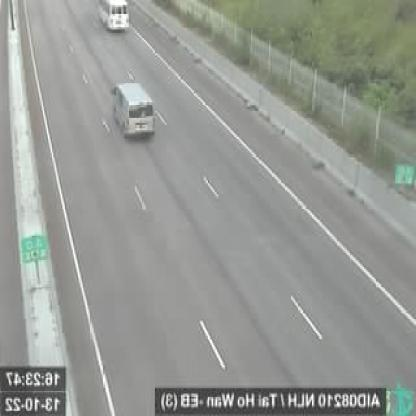Car: (113, 80, 156, 140)
Minibus: (93, 0, 129, 31)
